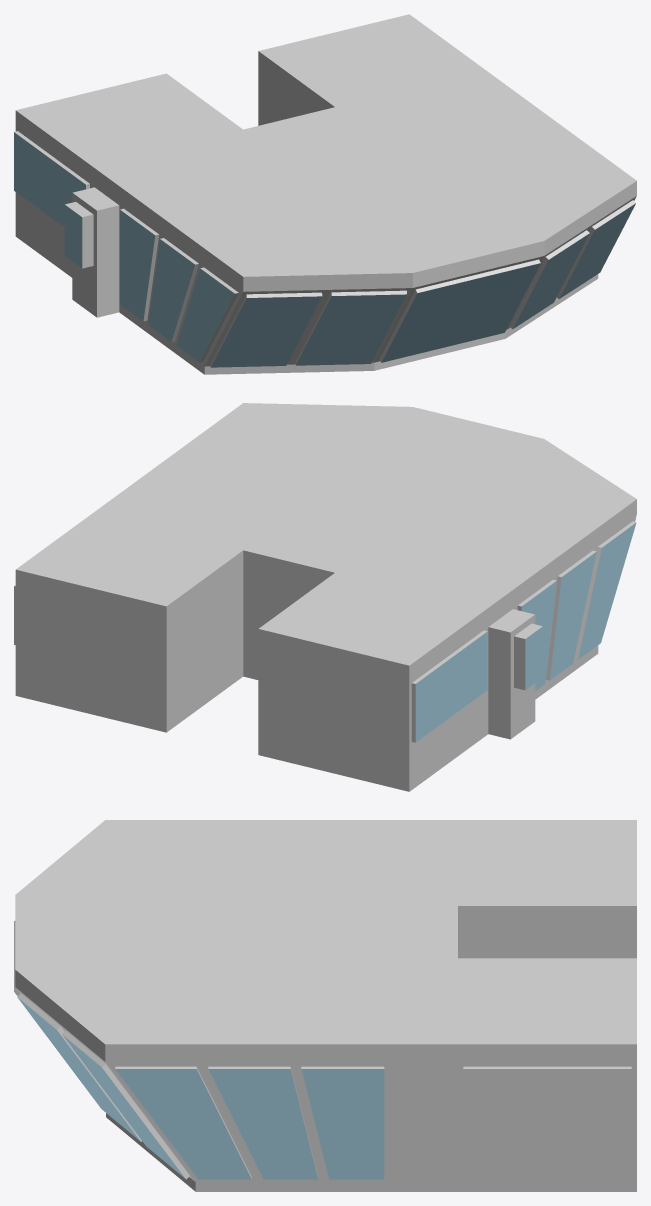
The picture shows the model from 3 angles, top to bottom: view 1: azimuth 30°, elevation 25°; view 2: azimuth 150°, elevation 25°; view 3: azimuth 270°, elevation 25°; orthographic projection. The views are drawn at different scales.
Parts seen in each view (by area): view 1: Plane; view 2: Plane; view 3: Plane.
Part boxes in pixels (bbox=[...]): Plane: bbox=[14, 14, 636, 374]; Plane: bbox=[14, 403, 636, 791]; Plane: bbox=[14, 820, 636, 1191].
Bounding box in the file's own units: 21.9 × 6.13 × 23.46.
